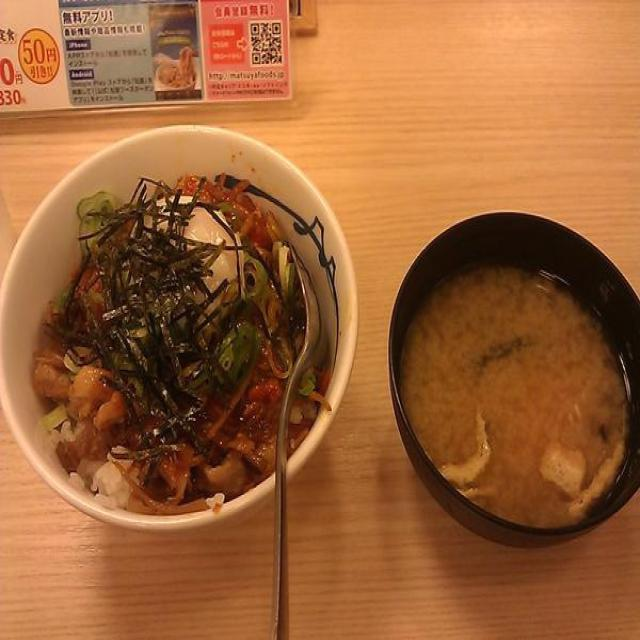miso-soup: (387, 200, 636, 544)
